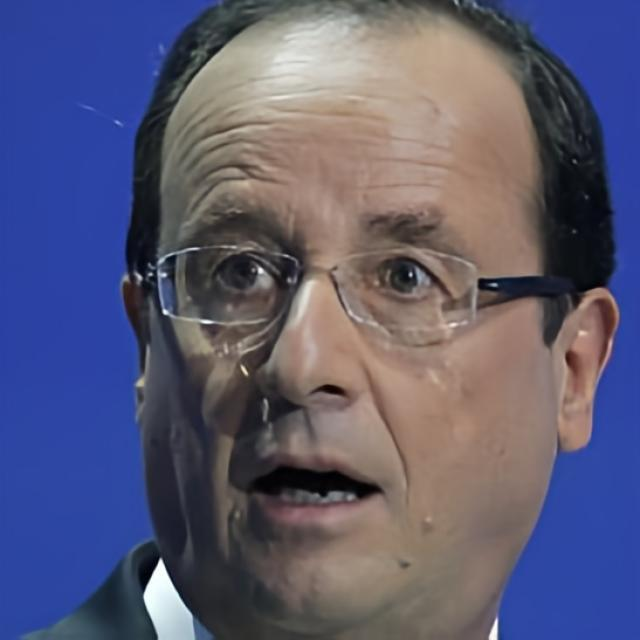surprise: (138, 2, 560, 635)
